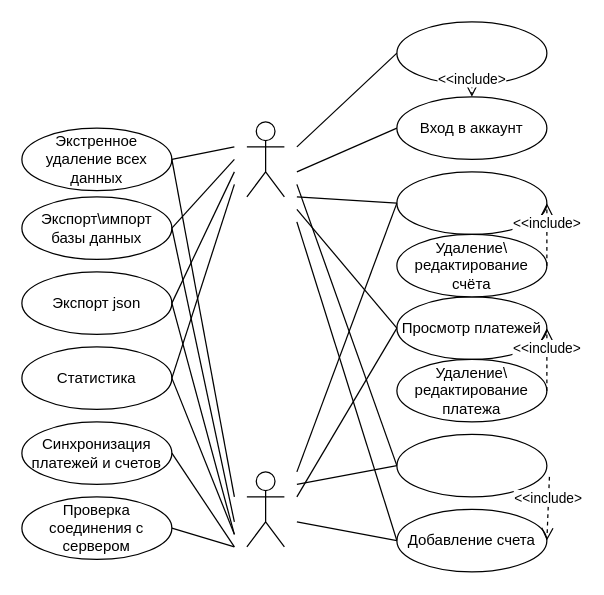
Some shapes in this 604 by 595 pixel diagram are drawn without their labels. Each missing label, with the box of its shape:
Авторизованный пользователь: (246, 471, 284, 547)
Гость: (246, 121, 284, 197)
Добавление платежа: (396, 433, 547, 497)
Просмотр счетов: (396, 171, 547, 234)
Регистрация: (396, 21, 547, 84)
